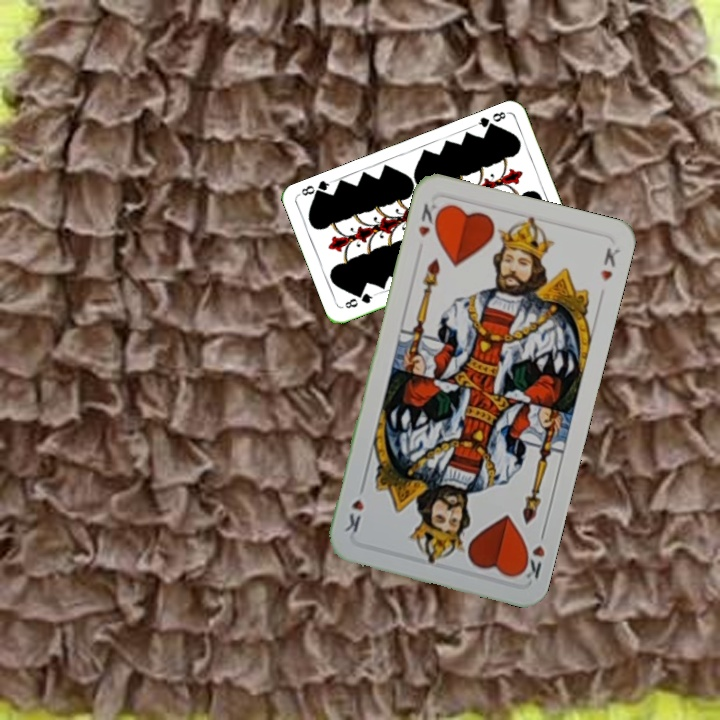G8: (471, 107, 510, 133), (341, 289, 378, 311)
HK: (515, 525, 548, 582), (414, 199, 445, 239)
